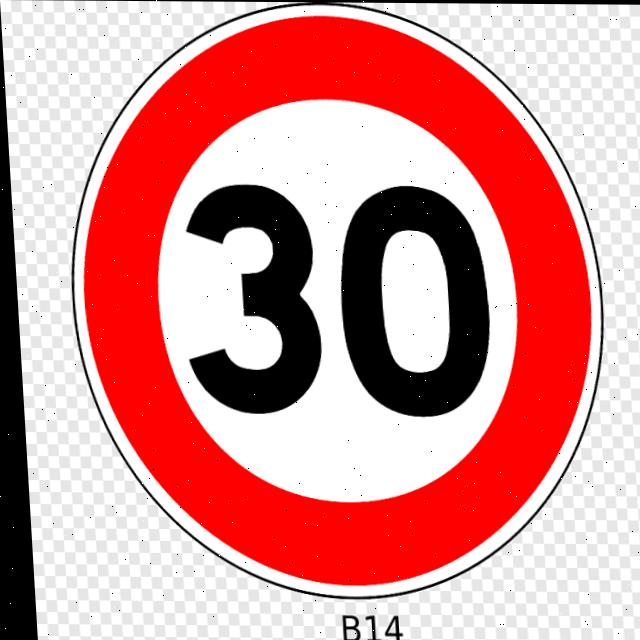Speed limit 30: (54, 4, 615, 600)
